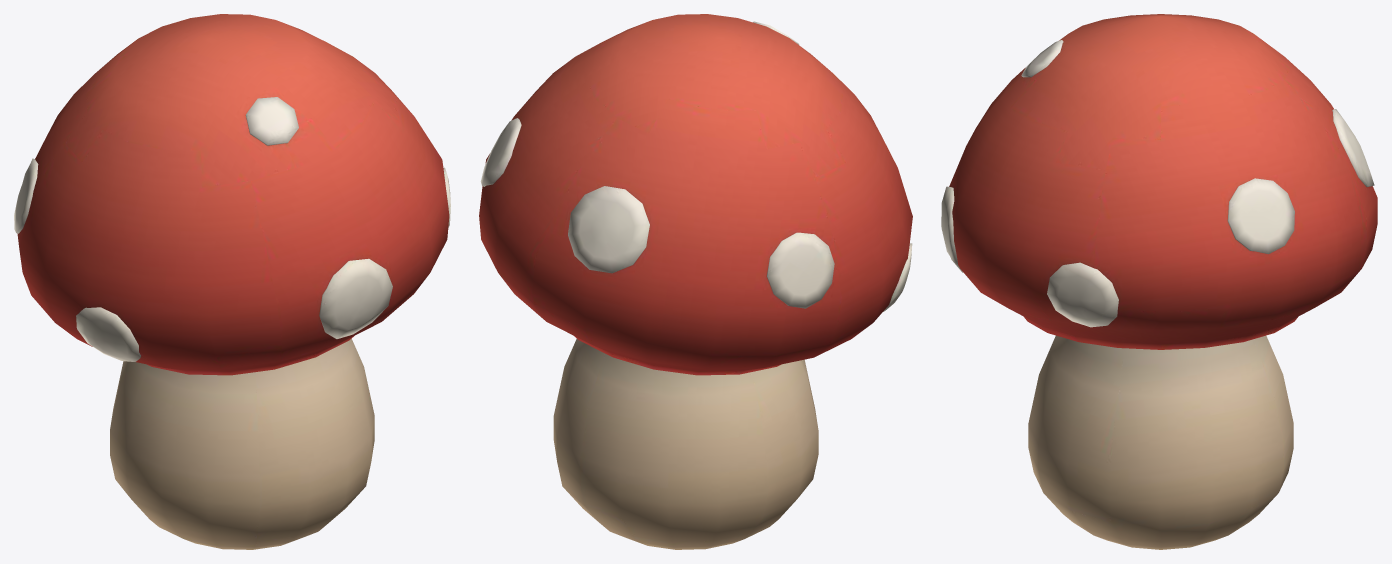
Rendered from mushroom_red_2_high.glb.
The picture shows the model from 3 angles, left to right: view 1: azimuth 30°, elevation 25°; view 2: azimuth 150°, elevation 25°; view 3: azimuth 270°, elevation 25°; orthographic projection.
Parts seen in each view (by area): view 1: cap, mushroom_red_2; view 2: cap, mushroom_red_2; view 3: cap, mushroom_red_2.
Boxes of the visible parts, bbox=[...] form: cap: bbox=[14, 14, 450, 375]; mushroom_red_2: bbox=[110, 338, 374, 549]; cap: bbox=[479, 14, 912, 375]; mushroom_red_2: bbox=[553, 339, 818, 549]; cap: bbox=[941, 14, 1377, 349]; mushroom_red_2: bbox=[1028, 335, 1293, 549].
Bounding box in the file's own units: 0.3996 × 0.4974 × 0.4029.
Materials: 1 (1 with a texture image).
